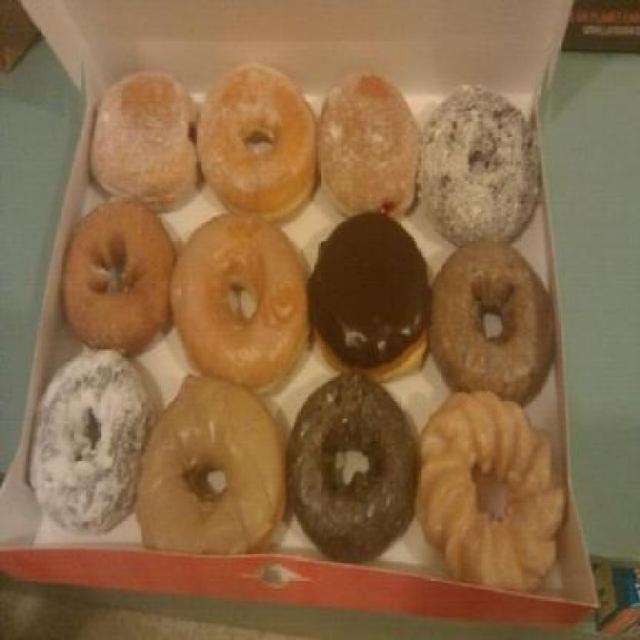Donuts: (52, 68, 571, 588)
